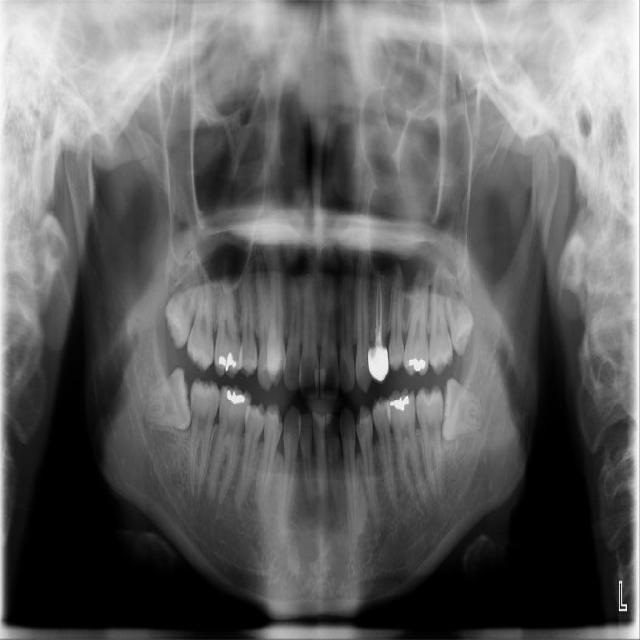Crown: (367, 349, 389, 383)
Filling: (216, 351, 239, 371), (223, 389, 250, 405), (388, 397, 412, 412), (408, 357, 427, 375), (420, 390, 436, 404)
impacted tooth: (140, 370, 192, 426), (441, 380, 486, 436), (444, 276, 473, 358)
